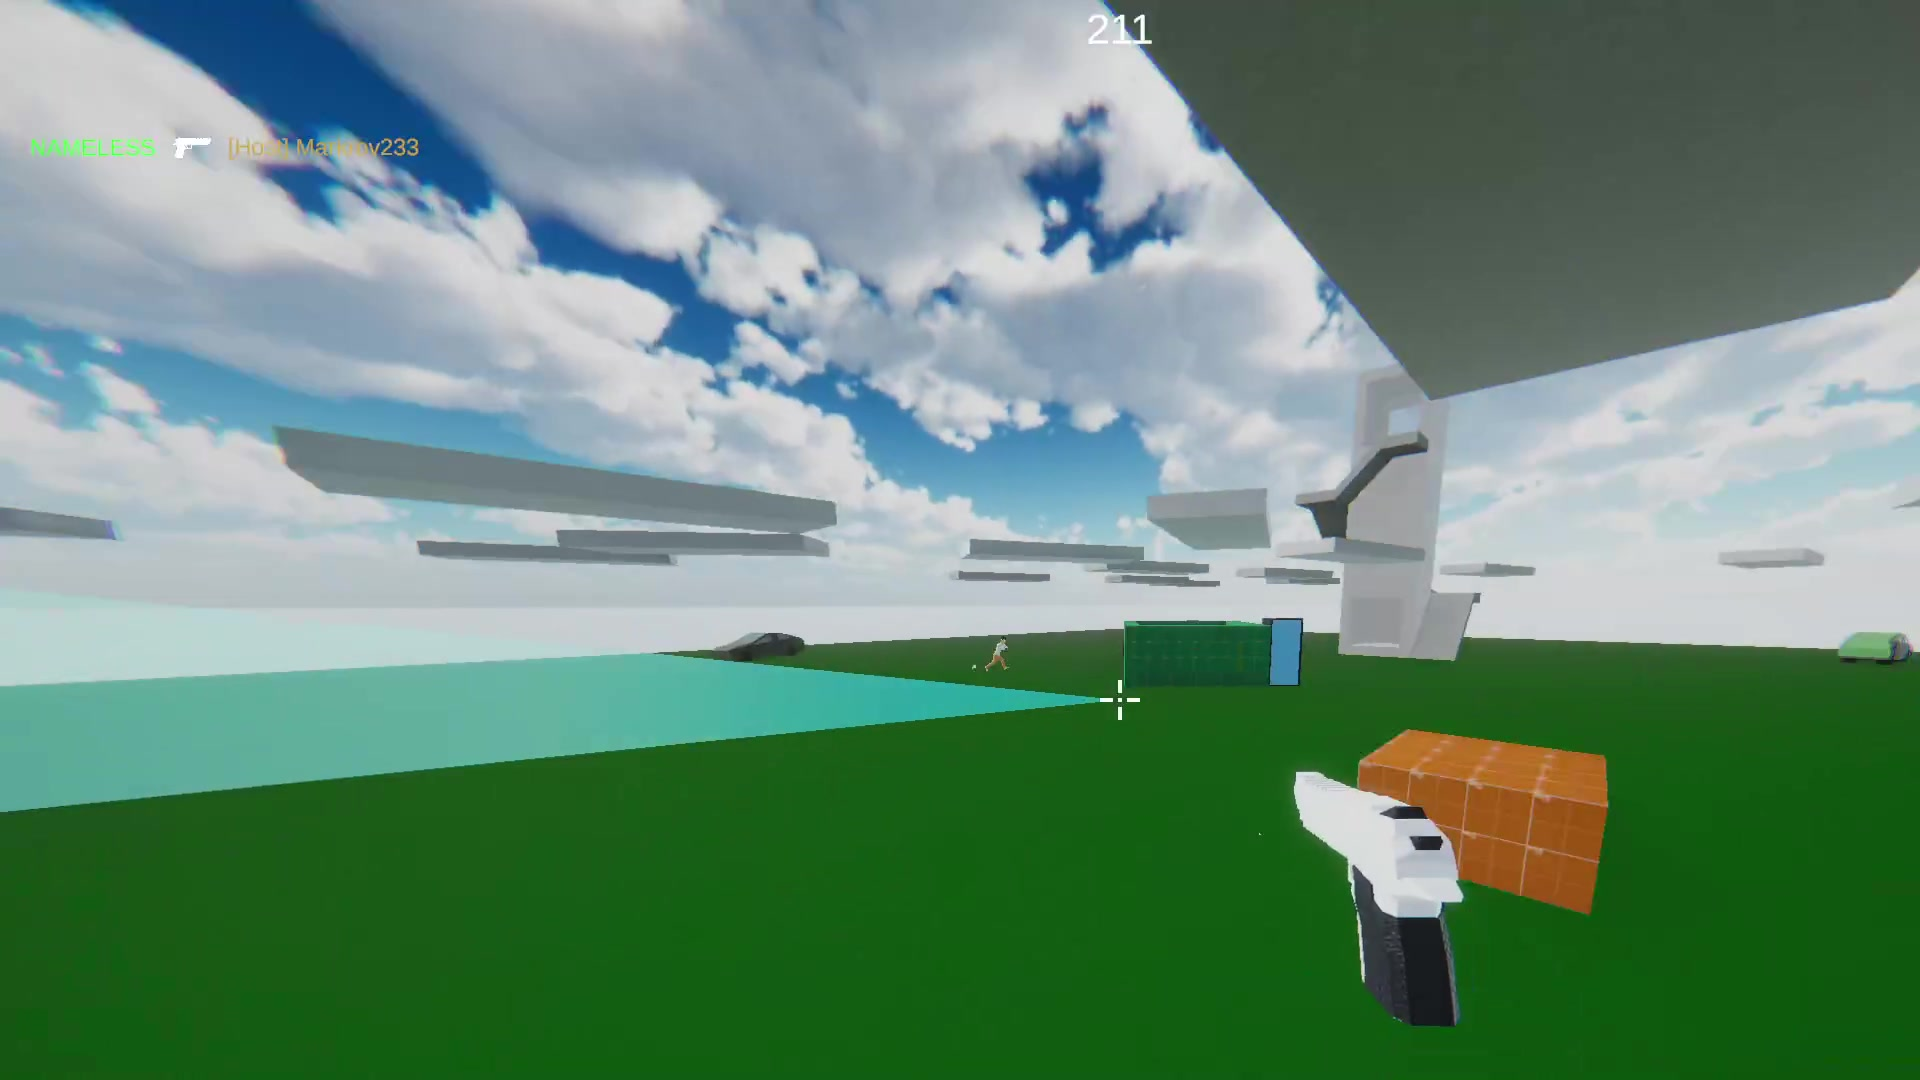human: (987, 632, 1008, 669)
